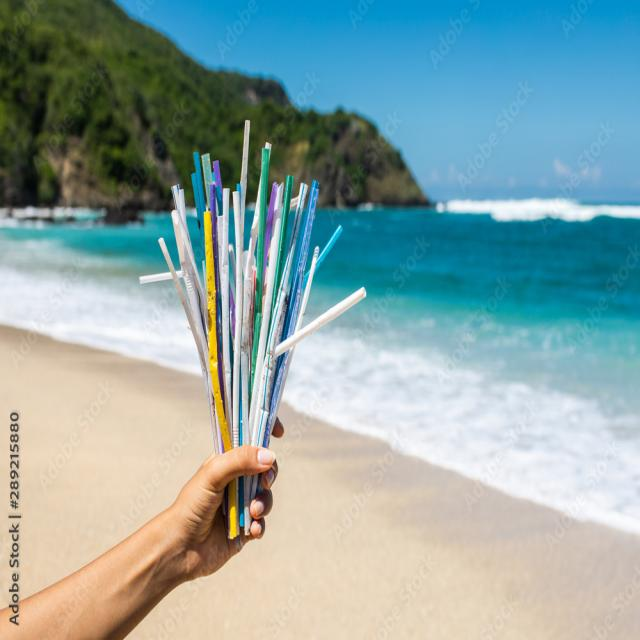plastic: (202, 198, 216, 411)
